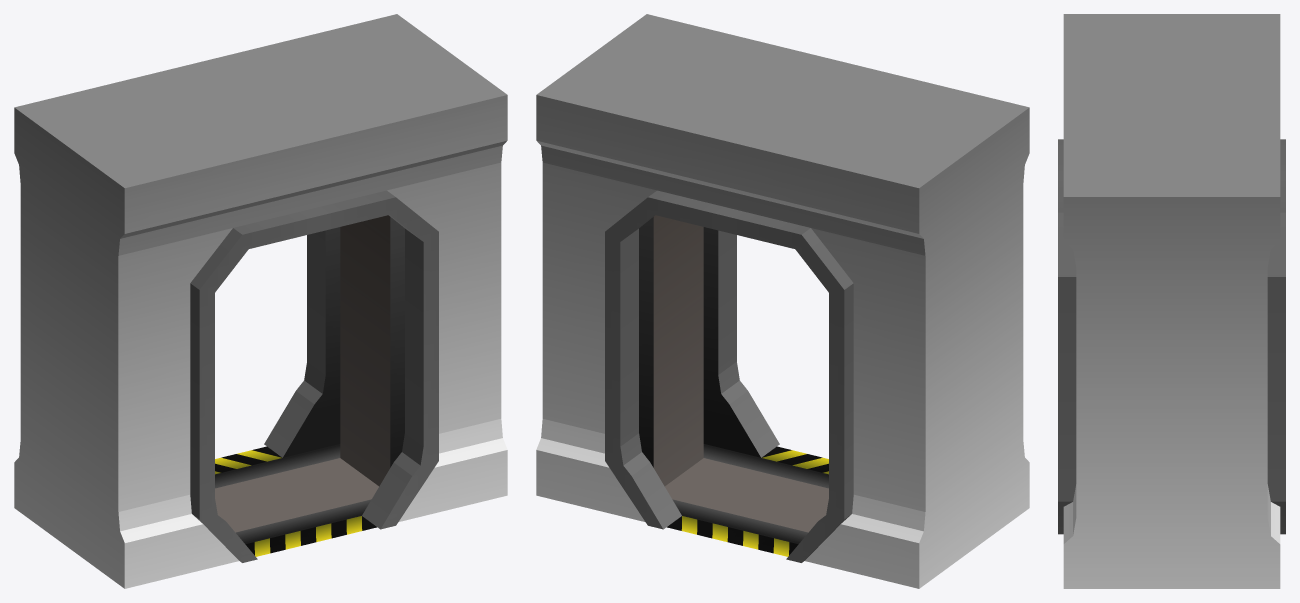
The model's file is PuertaDelgada01.fbx.
The picture shows the model from 3 angles, left to right: view 1: azimuth 30°, elevation 25°; view 2: azimuth 150°, elevation 25°; view 3: azimuth 270°, elevation 25°; orthographic projection. The views are drawn at different scales.
Visible parts, largest first — view 1: PuertaDelgaada; view 2: PuertaDelgaada; view 3: PuertaDelgaada.
Part boxes in pixels (bbox=[...]): PuertaDelgaada: bbox=[14, 14, 507, 588]; PuertaDelgaada: bbox=[536, 14, 1029, 588]; PuertaDelgaada: bbox=[1058, 14, 1285, 588].
Size of the model in its own units: 39.37 by 39.37 by 20.74.
Materials: 1 (1 with a texture image).
